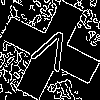V: (25, 25, 76, 81)
